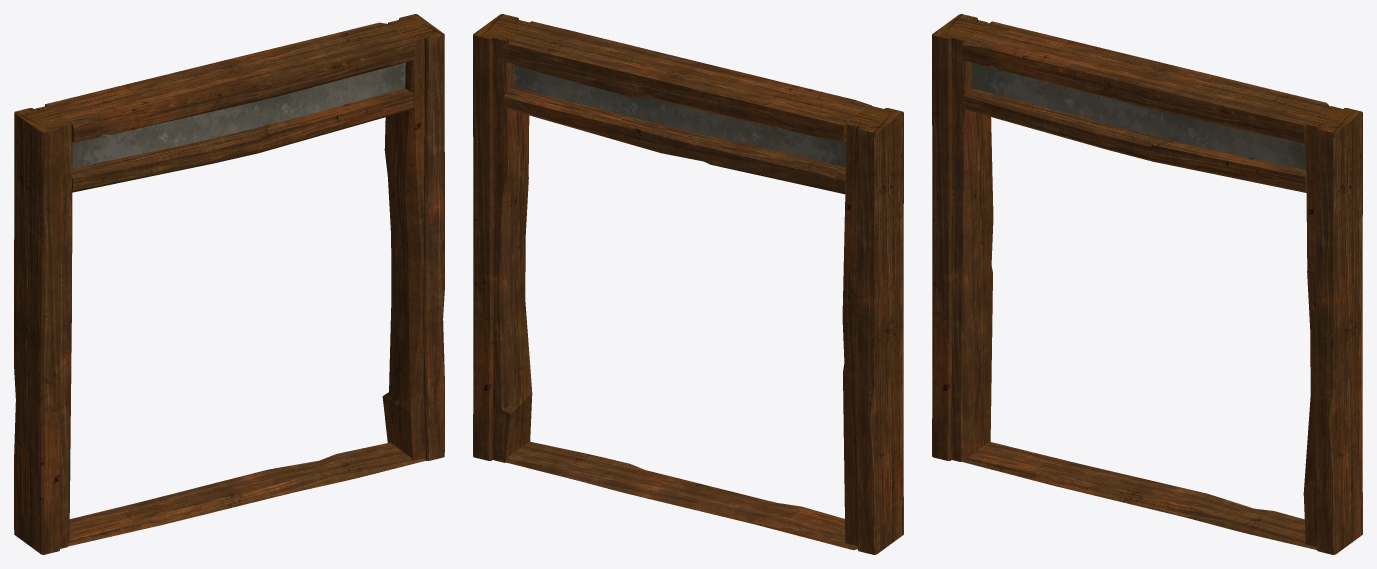
The picture shows the model from 3 angles, left to right: view 1: azimuth 30°, elevation 25°; view 2: azimuth 150°, elevation 25°; view 3: azimuth 330°, elevation 25°; orthographic projection.
Visible parts, largest first — view 1: SM_BB_T2_Wall_Doorframe_Double_LOD0; view 2: SM_BB_T2_Wall_Doorframe_Double_LOD0; view 3: SM_BB_T2_Wall_Doorframe_Double_LOD0.
Boxes of the visible parts, <box> form: SM_BB_T2_Wall_Doorframe_Double_LOD0: <box>14,14,444,554</box>; SM_BB_T2_Wall_Doorframe_Double_LOD0: <box>473,14,903,554</box>; SM_BB_T2_Wall_Doorframe_Double_LOD0: <box>932,14,1362,554</box>.
Size of the model in its own units: 3 by 3 by 0.3803.
Materials: 2 (2 with a texture image).
